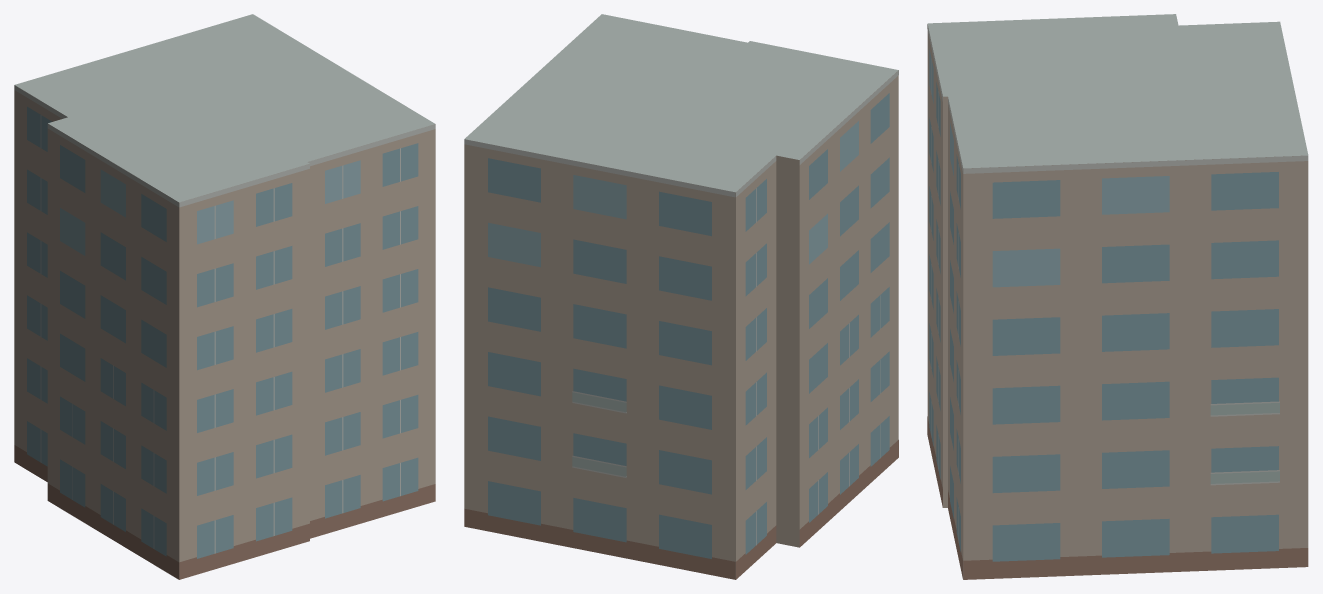
Rendered from survey-upis-32912829.glb.
3 renders of one model, left to right at view 1: azimuth 30°, elevation 25°; view 2: azimuth 150°, elevation 25°; view 3: azimuth 270°, elevation 25°, orthographic. The views are drawn at different scales.
Visible parts, largest first — view 1: survey-upis-32912829.tmp; view 2: survey-upis-32912829.tmp; view 3: survey-upis-32912829.tmp.
Part boxes in pixels (left/top/right/bottom): survey-upis-32912829.tmp: left=14, top=14, right=435, bottom=579; survey-upis-32912829.tmp: left=464, top=14, right=898, bottom=579; survey-upis-32912829.tmp: left=927, top=14, right=1308, bottom=579.
Bounding box in the file's own units: 14.74 × 18.3 × 15.37.
